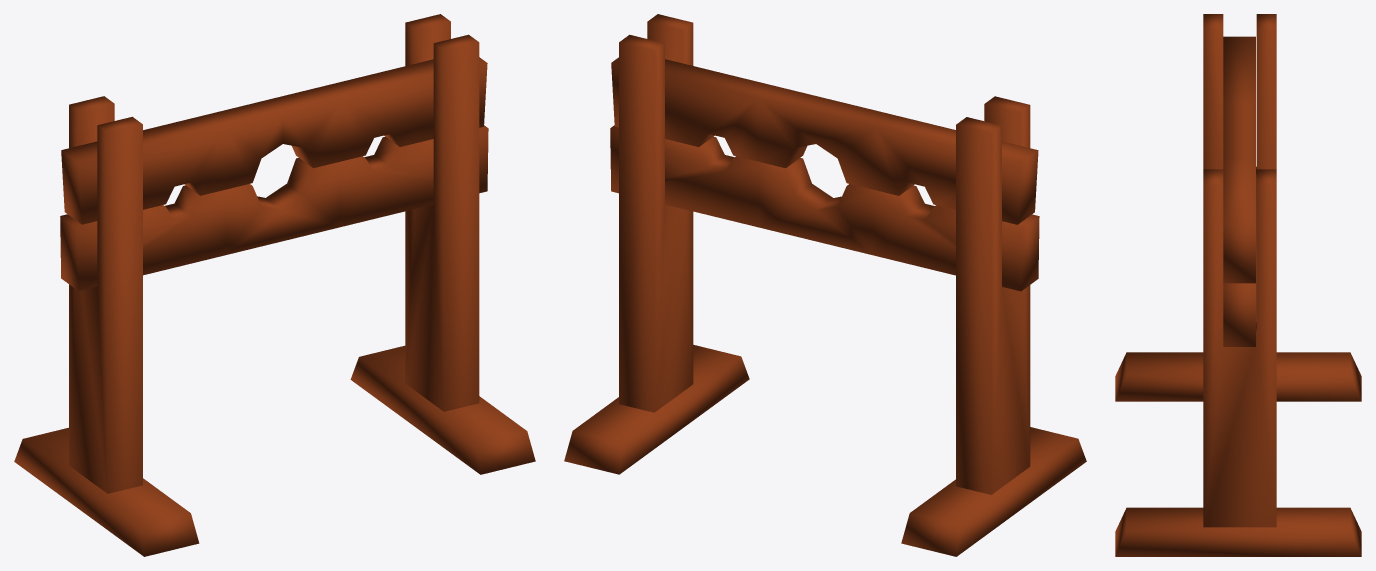
File: TortureHead.fbx
3 views of the same model, side by side, from view 1: azimuth 30°, elevation 25°; view 2: azimuth 150°, elevation 25°; view 3: azimuth 270°, elevation 25° (orthographic). The views are drawn at different scales.
Parts seen in each view (by area): view 1: torture-head; view 2: torture-head; view 3: torture-head.
Part boxes in pixels (x1,y1,x2,y2): torture-head: [14, 14, 535, 556]; torture-head: [564, 14, 1086, 556]; torture-head: [1115, 14, 1361, 556].
Bounding box in the file's own units: 140 × 126 × 76.66.
1 material, 1 textured.
